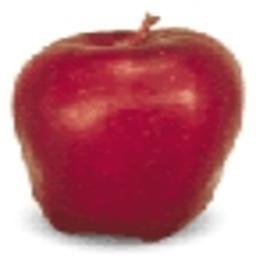apple: (16, 23, 237, 240)
